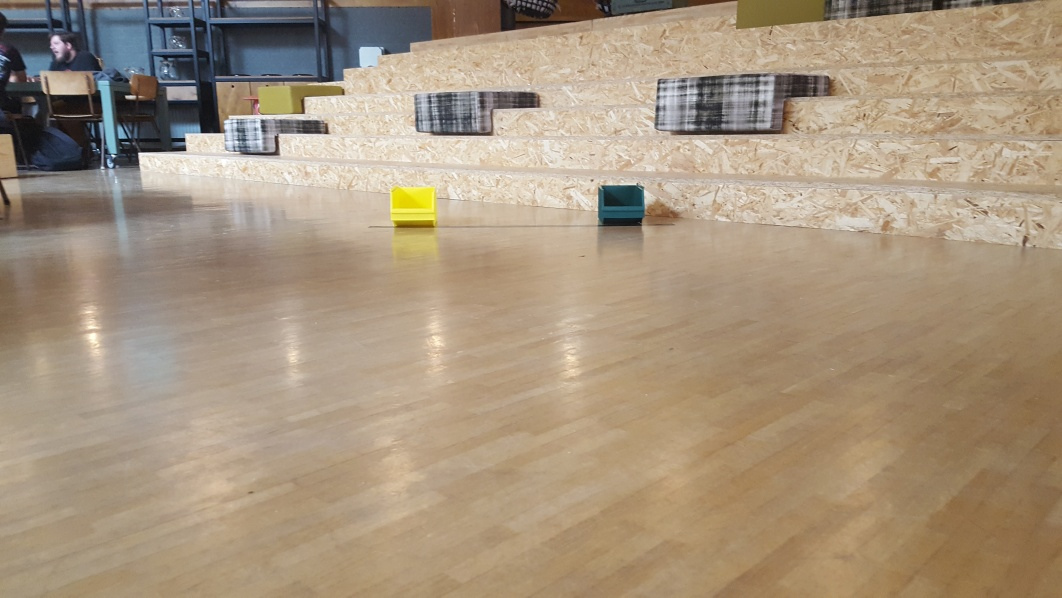tray: (594, 180, 650, 226), (387, 186, 437, 227)
